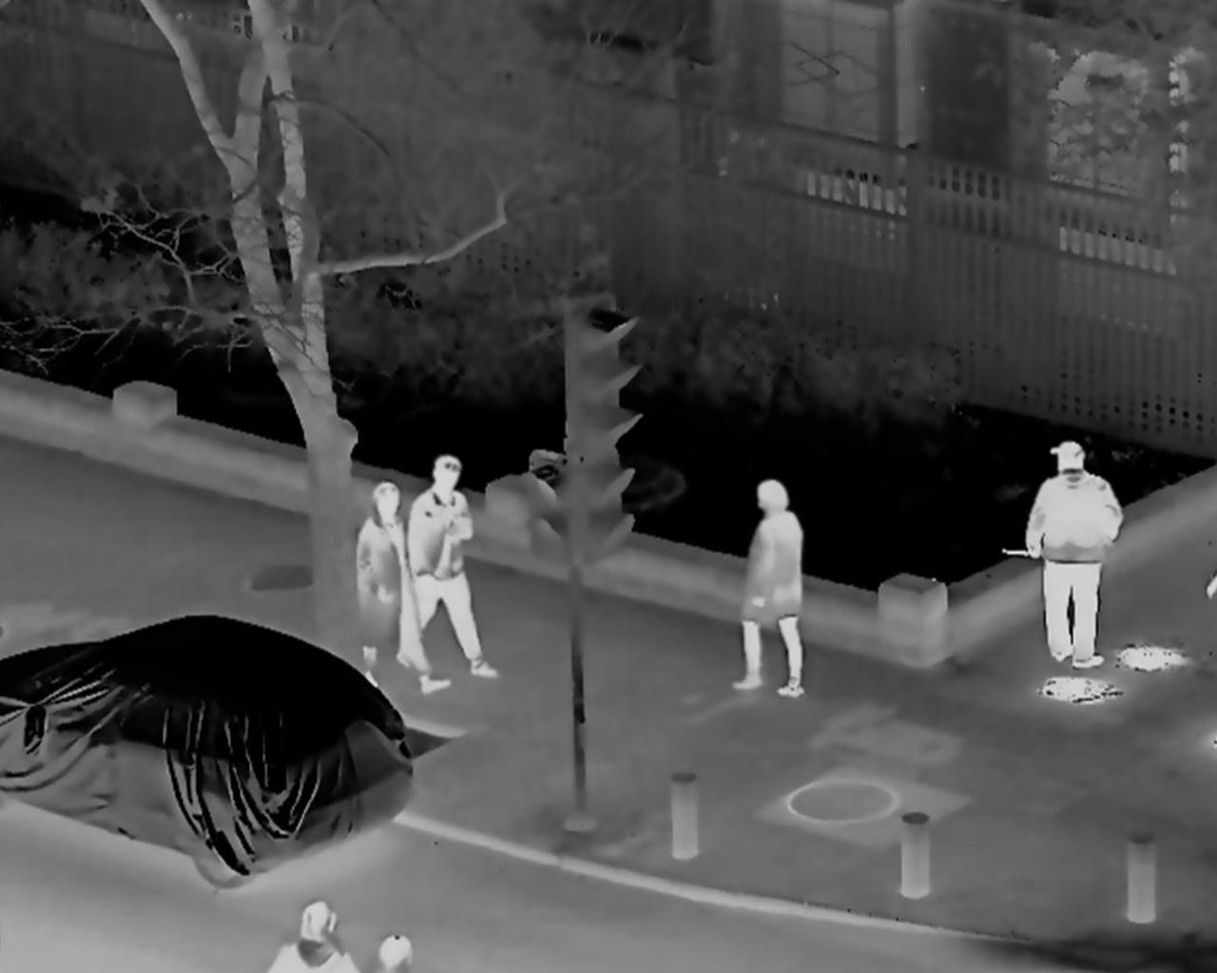person: (1028, 441, 1126, 669), (402, 453, 497, 680), (352, 483, 448, 696), (735, 480, 805, 703), (269, 894, 366, 973), (371, 929, 422, 972)
